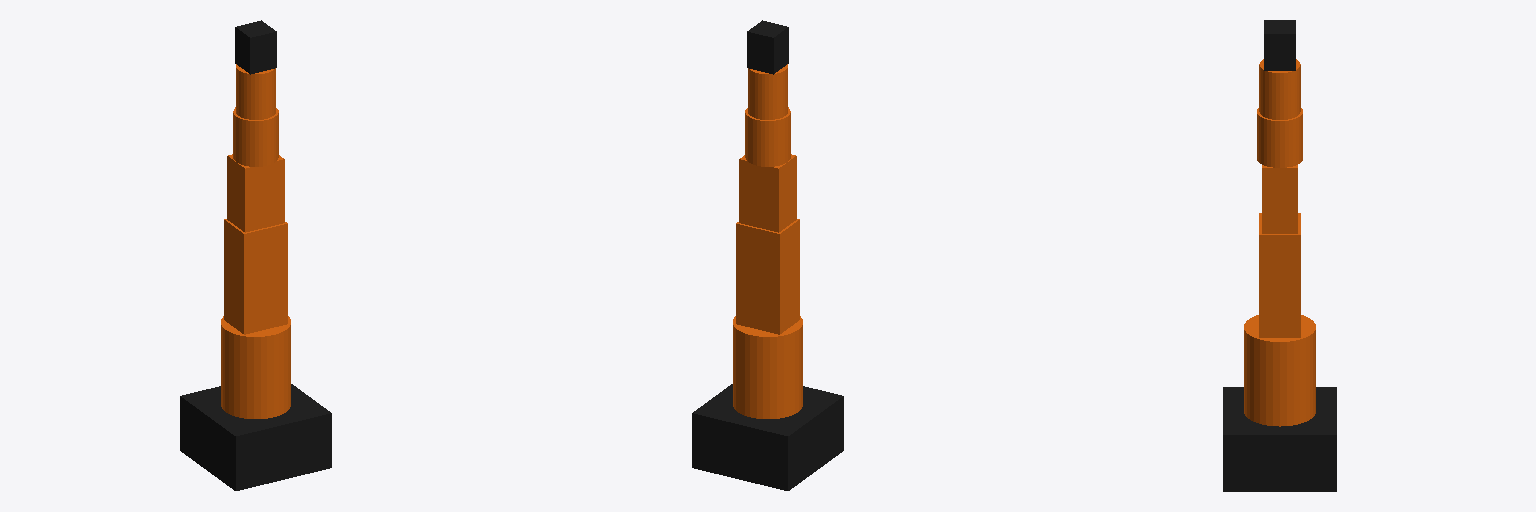
URDF robot description (kuka_kr3):
<?xml version="1.0"?>
<robot name="kuka_kr3" xmlns:xacro="http://www.ros.org/wiki/xacro">
  <!-- Simplified KUKA KR3 URDF with primitive geometry. Dimensions are approximate placeholders. -->

  <!-- Material -->
  <material name="orange"><color rgba="0.9 0.45 0.1 1.0"/></material>
  <material name="dark"><color rgba="0.15 0.15 0.15 1.0"/></material>

  <!-- Base link -->
  <link name="base_link">
    <visual>
      <origin xyz="0 0 0.06" rpy="0 0 0"/>
      <geometry><box size="0.22 0.22 0.12"/></geometry>
      <material name="dark"/>
    </visual>
    <collision>
      <origin xyz="0 0 0.06" rpy="0 0 0"/>
      <geometry><box size="0.22 0.22 0.12"/></geometry>
    </collision>
    <inertial>
      <origin xyz="0 0 0" rpy="0 0 0"/>
      <mass value="8.0"/>
      <inertia ixx="0.02" iyy="0.02" izz="0.02" ixy="0" ixz="0" iyz="0"/>
    </inertial>
  </link>

  <!-- Joint 1: revolute about +Z -->
  <joint name="joint_1" type="revolute">
    <parent link="base_link"/>
    <child link="link_1"/>
    <origin xyz="0 0 0.12" rpy="0 0 0"/>
    <axis xyz="0 0 1"/>
    <limit lower="-3.14" upper="3.14" effort="150" velocity="2.62"/>
  </joint>

  <link name="link_1">
    <visual>
      <origin xyz="0 0 0.09" rpy="0 0 0"/>
      <geometry><cylinder radius="0.07" length="0.18"/></geometry>
      <material name="orange"/>
    </visual>
    <collision>
      <origin xyz="0 0 0.09" rpy="0 0 0"/>
      <geometry><cylinder radius="0.07" length="0.18"/></geometry>
    </collision>
    <inertial>
      <origin xyz="0 0 0.09" rpy="0 0 0"/>
      <mass value="3.0"/>
      <inertia ixx="0.01" iyy="0.01" izz="0.005" ixy="0" ixz="0" iyz="0"/>
    </inertial>
  </link>

  <!-- Joint 2: revolute about +Y -->
  <joint name="joint_2" type="revolute">
    <parent link="link_1"/>
    <child link="link_2"/>
    <origin xyz="0 0 0.18" rpy="0 0 0"/>
    <axis xyz="0 1 0"/>
    <limit lower="-2.27" upper="2.27" effort="120" velocity="2.62"/>
  </joint>

  <link name="link_2">
    <visual>
      <origin xyz="0 0.0 0.11" rpy="0 0 0"/>
      <geometry><box size="0.1 0.08 0.22"/></geometry>
      <material name="orange"/>
    </visual>
    <collision>
      <origin xyz="0 0.0 0.11" rpy="0 0 0"/>
      <geometry><box size="0.1 0.08 0.22"/></geometry>
    </collision>
    <inertial>
      <origin xyz="0 0.0 0.11" rpy="0 0 0"/>
      <mass value="2.5"/>
      <inertia ixx="0.008" iyy="0.008" izz="0.004" ixy="0" ixz="0" iyz="0"/>
    </inertial>
  </link>

  <!-- Joint 3: revolute about +Y -->
  <joint name="joint_3" type="revolute">
    <parent link="link_2"/>
    <child link="link_3"/>
    <origin xyz="0 0 0.22" rpy="0 0 0"/>
    <axis xyz="0 1 0"/>
    <limit lower="-2.44" upper="2.44" effort="100" velocity="2.62"/>
  </joint>

  <link name="link_3">
    <visual>
      <origin xyz="0 0.0 0.07" rpy="0 0 0"/>
      <geometry><box size="0.09 0.07 0.14"/></geometry>
      <material name="orange"/>
    </visual>
    <collision>
      <origin xyz="0 0.0 0.07" rpy="0 0 0"/>
      <geometry><box size="0.09 0.07 0.14"/></geometry>
    </collision>
    <inertial>
      <origin xyz="0 0.0 0.07" rpy="0 0 0"/>
      <mass value="2.0"/>
      <inertia ixx="0.006" iyy="0.006" izz="0.003" ixy="0" ixz="0" iyz="0"/>
    </inertial>
  </link>

  <!-- Joint 4: revolute about +X -->
  <joint name="joint_4" type="revolute">
    <parent link="link_3"/>
    <child link="link_4"/>
    <origin xyz="0 0 0.14" rpy="0 0 0"/>
    <axis xyz="1 0 0"/>
    <limit lower="-3.14" upper="3.14" effort="60" velocity="4.36"/>
  </joint>

  <link name="link_4">
    <visual>
      <origin xyz="0 0 0.05" rpy="0 0 0"/>
      <geometry><cylinder radius="0.045" length="0.10"/></geometry>
      <material name="orange"/>
    </visual>
    <collision>
      <origin xyz="0 0 0.05" rpy="0 0 0"/>
      <geometry><cylinder radius="0.045" length="0.10"/></geometry>
    </collision>
    <inertial>
      <origin xyz="0 0 0.05" rpy="0 0 0"/>
      <mass value="1.2"/>
      <inertia ixx="0.003" iyy="0.003" izz="0.002" ixy="0" ixz="0" iyz="0"/>
    </inertial>
  </link>

  <!-- Joint 5: revolute about +Y -->
  <joint name="joint_5" type="revolute">
    <parent link="link_4"/>
    <child link="link_5"/>
    <origin xyz="0 0 0.10" rpy="0 0 0"/>
    <axis xyz="0 1 0"/>
    <limit lower="-2.09" upper="2.09" effort="50" velocity="4.36"/>
  </joint>

  <link name="link_5">
    <visual>
      <origin xyz="0 0 0.05" rpy="0 0 0"/>
      <geometry><cylinder radius="0.04" length="0.10"/></geometry>
      <material name="orange"/>
    </visual>
    <collision>
      <origin xyz="0 0 0.05" rpy="0 0 0"/>
      <geometry><cylinder radius="0.04" length="0.10"/></geometry>
    </collision>
    <inertial>
      <origin xyz="0 0 0.05" rpy="0 0 0"/>
      <mass value="1.0"/>
      <inertia ixx="0.002" iyy="0.002" izz="0.0015" ixy="0" ixz="0" iyz="0"/>
    </inertial>
  </link>

  <!-- Joint 6: revolute about +X -->
  <joint name="joint_6" type="revolute">
    <parent link="link_5"/>
    <child link="tool0"/>
    <origin xyz="0 0 0.10" rpy="0 0 0"/>
    <axis xyz="1 0 0"/>
    <limit lower="-3.14" upper="3.14" effort="40" velocity="6.28"/>
  </joint>

  <link name="tool0">
    <visual>
      <origin xyz="0 0 0.04" rpy="0 0 0"/>
      <geometry><box size="0.06 0.06 0.08"/></geometry>
      <material name="dark"/>
    </visual>
    <collision>
      <origin xyz="0 0 0.04" rpy="0 0 0"/>
      <geometry><box size="0.06 0.06 0.08"/></geometry>
    </collision>
    <inertial>
      <origin xyz="0 0 0.04" rpy="0 0 0"/>
      <mass value="0.8"/>
      <inertia ixx="0.001" iyy="0.001" izz="0.001" ixy="0" ixz="0" iyz="0"/>
    </inertial>
  </link>

</robot>

--- Render facts (derived) ---
The picture shows the robot from 3 angles, left to right: view 1: azimuth 30°, elevation 25°; view 2: azimuth 150°, elevation 25°; view 3: azimuth 270°, elevation 25°; orthographic projection.
Model kuka_kr3 with 7 links and 6 joints (6 revolute), rooted at base_link, posed every joint at zero.
Links seen in each view (by area): view 1: base_link, link_2, link_1, link_3, link_4, tool0, link_5; view 2: base_link, link_2, link_1, link_3, link_4, tool0, link_5; view 3: base_link, link_1, link_2, link_3, link_4, link_5, tool0.
Link boxes in pixels (x1=…): base_link: x1=180, y1=384, x2=331, y2=490; link_2: x1=224, y1=219, x2=287, y2=334; link_1: x1=221, y1=316, x2=290, y2=418; link_3: x1=227, y1=154, x2=284, y2=232; link_4: x1=233, y1=107, x2=278, y2=166; tool0: x1=235, y1=20, x2=276, y2=74; link_5: x1=236, y1=64, x2=275, y2=119; base_link: x1=692, y1=384, x2=843, y2=490; link_2: x1=736, y1=219, x2=799, y2=334; link_1: x1=733, y1=316, x2=802, y2=418; link_3: x1=739, y1=154, x2=796, y2=232; link_4: x1=745, y1=107, x2=790, y2=166; tool0: x1=747, y1=20, x2=788, y2=74; link_5: x1=748, y1=64, x2=787, y2=119; base_link: x1=1223, y1=387, x2=1336, y2=491; link_1: x1=1244, y1=315, x2=1315, y2=426; link_2: x1=1259, y1=213, x2=1300, y2=337; link_3: x1=1262, y1=165, x2=1297, y2=233; link_4: x1=1257, y1=108, x2=1302, y2=167; link_5: x1=1259, y1=59, x2=1300, y2=119; tool0: x1=1264, y1=20, x2=1295, y2=70.
Bounding box of the posed robot: 0.22 × 0.22 × 0.94 m (x, y, z).
Geometry: primitives only (box / cylinder / sphere), no mesh files.